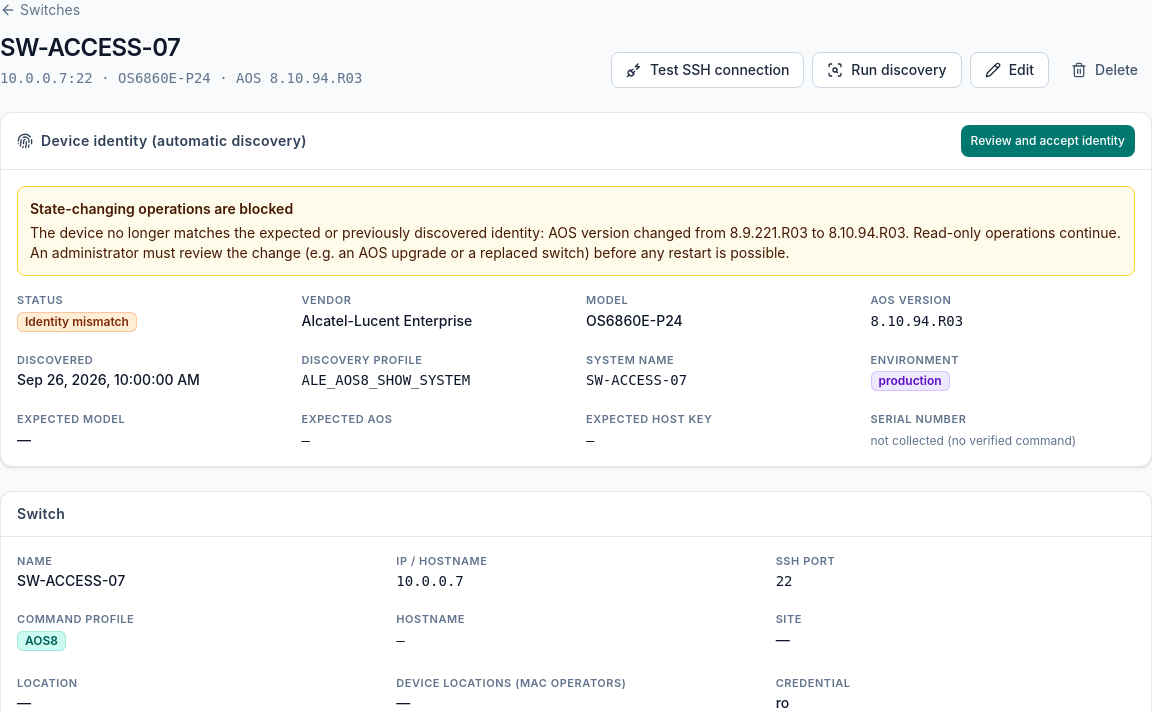
it: switch identity › shows a mismatch and lets an administrator accept it with a reason
The width and height of the screenshot is (1152, 711).
Expected: the text "Identity mismatch" is shown, [17,312,137,332]
Expected: the text "State-changing operations are blocked" is shown, [30,200,293,217]
Click the button "Review and accept identity" at (1048, 141), box [960,125,1135,157]
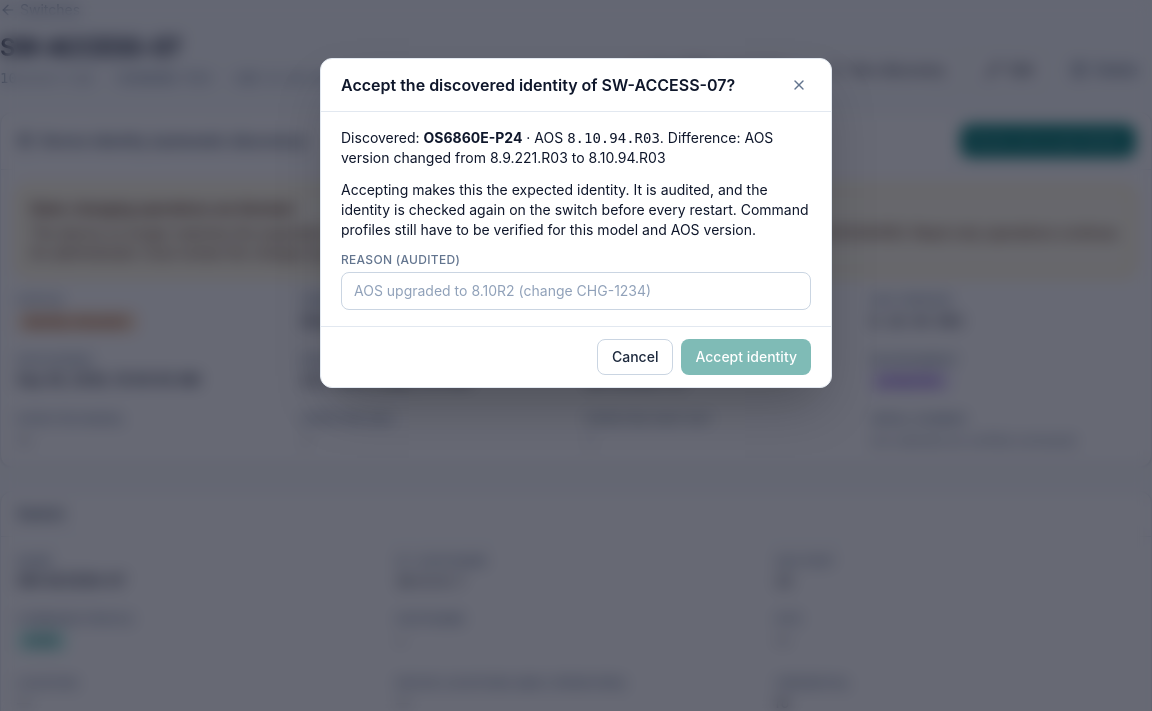
Now the button "Accept identity" is disabled, box [681,339,811,375]
Type "AOS upgrade CHG-42" into the field labelled "Reason (audited)" at (576, 291), box [341,272,811,310]
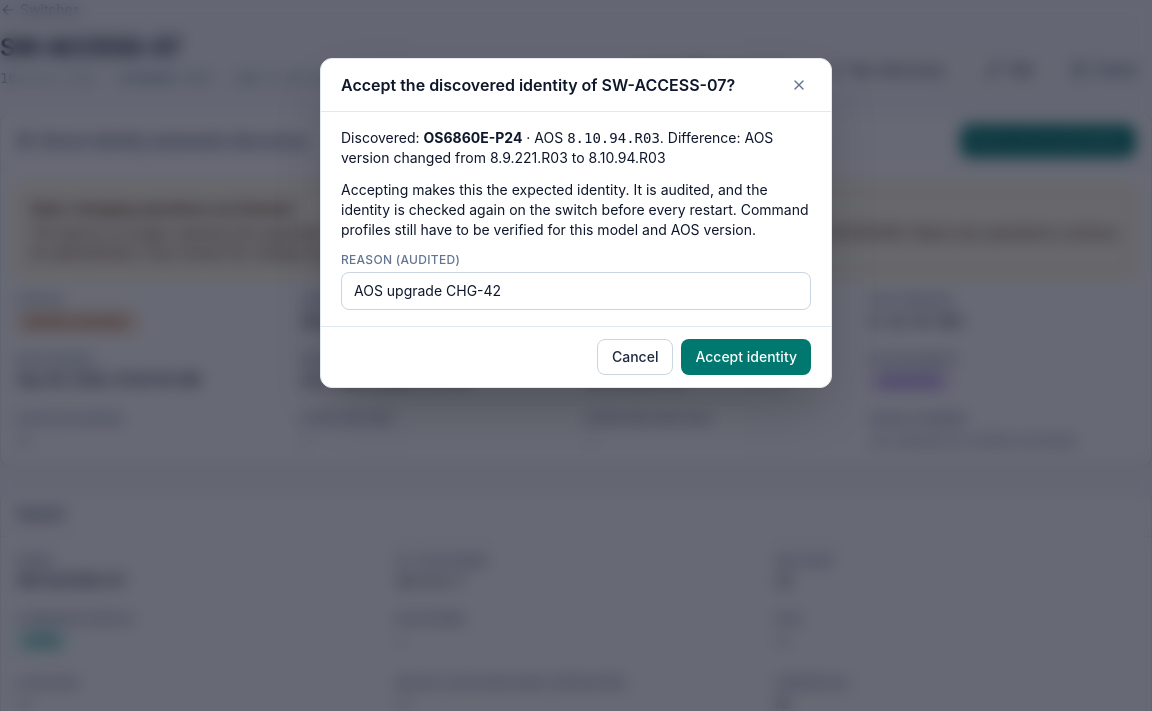
Click the button "Accept identity" at (746, 357), box [681,339,811,375]
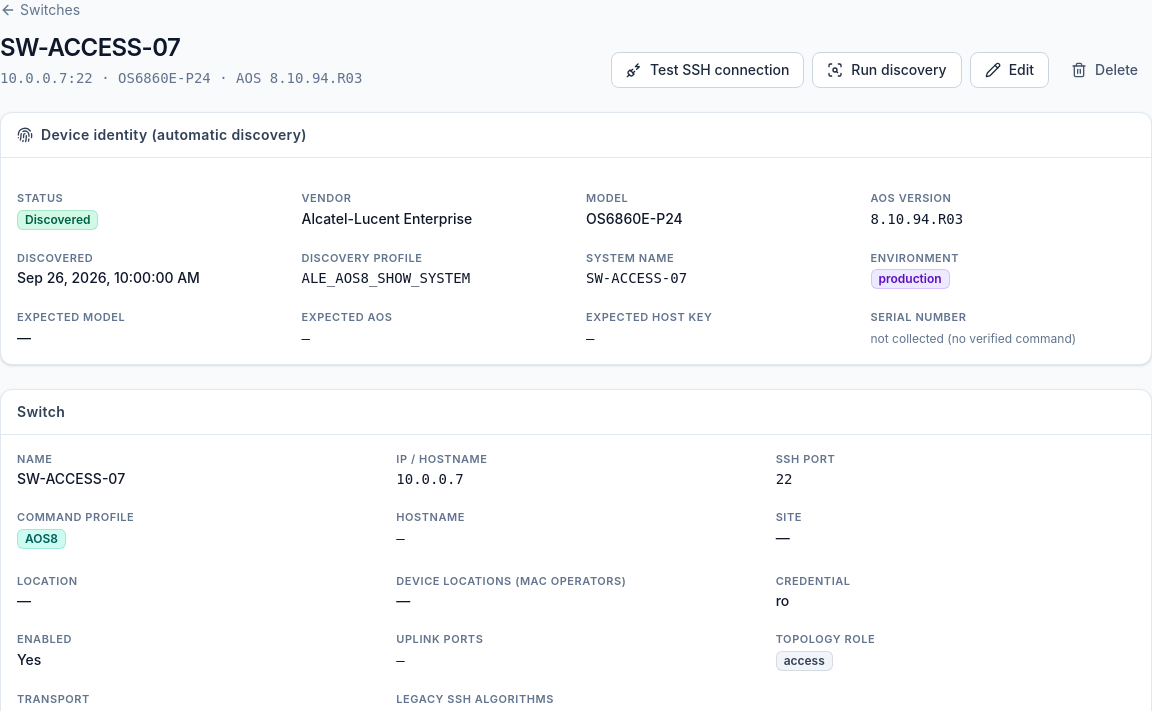
Now the text "Identity mismatch" is gone
Now the text "State-changing operations are blocked" is gone
